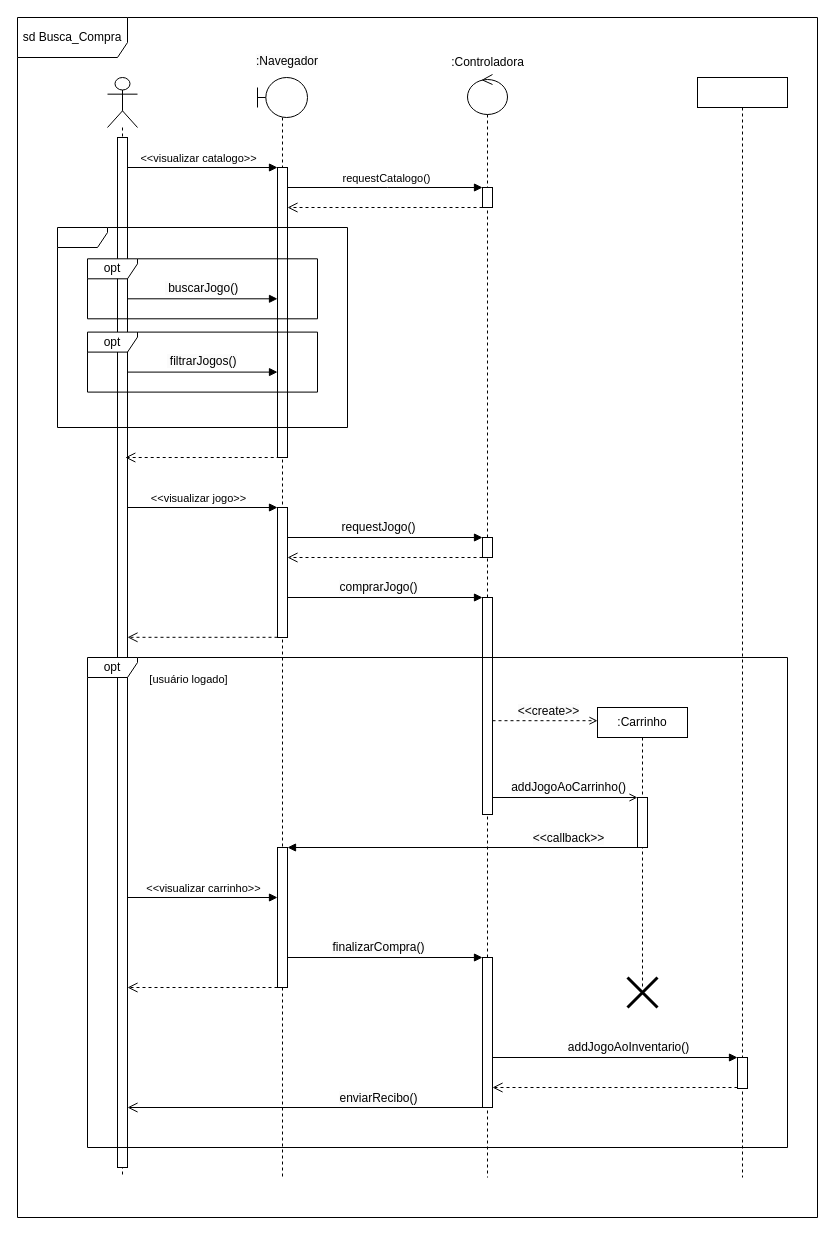
The diagram is 835 pixels wide and 1235 high, and some of its shapes have lost their labels. Each missing label, with the box of its shape:
:Usuario: (696, 76, 788, 1178)
loop: (56, 226, 348, 428)
